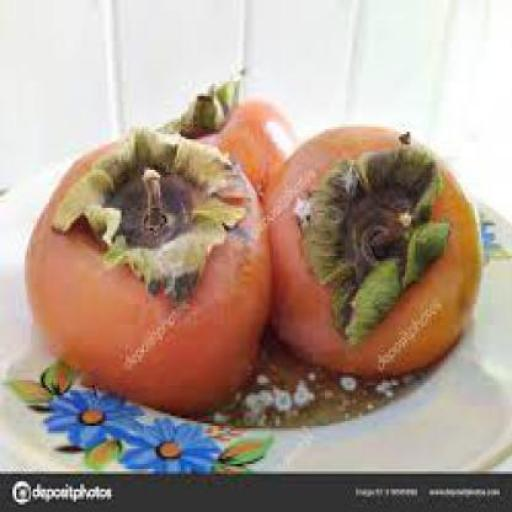biodegradable: (24, 127, 270, 416), (261, 122, 484, 375), (153, 73, 294, 198)
